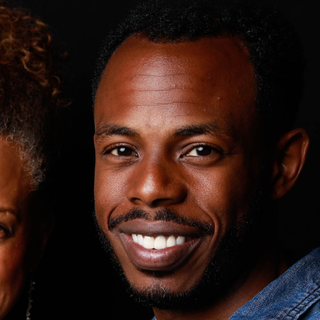eye: (179, 140, 225, 164), (99, 140, 141, 163)
